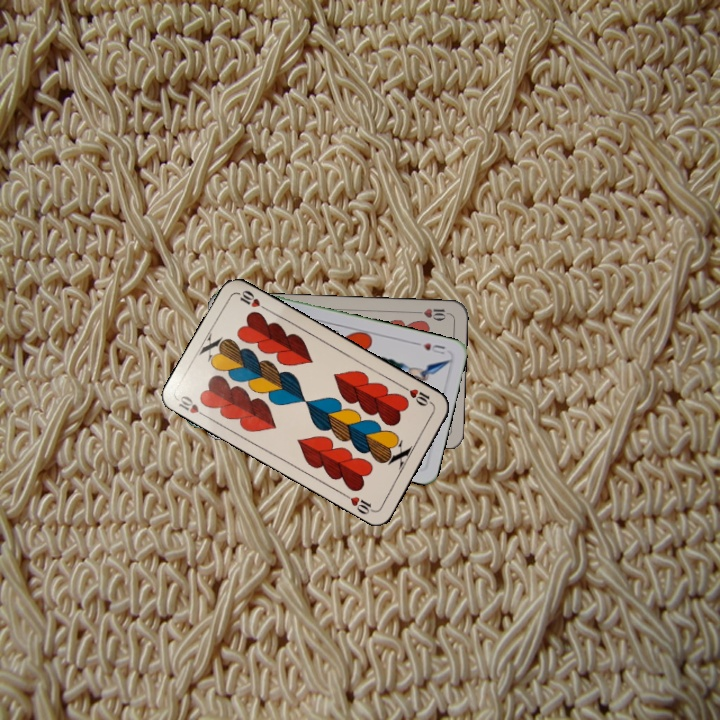H10: (174, 392, 211, 421), (399, 382, 436, 409), (411, 304, 452, 322)
HU: (411, 338, 448, 357)
